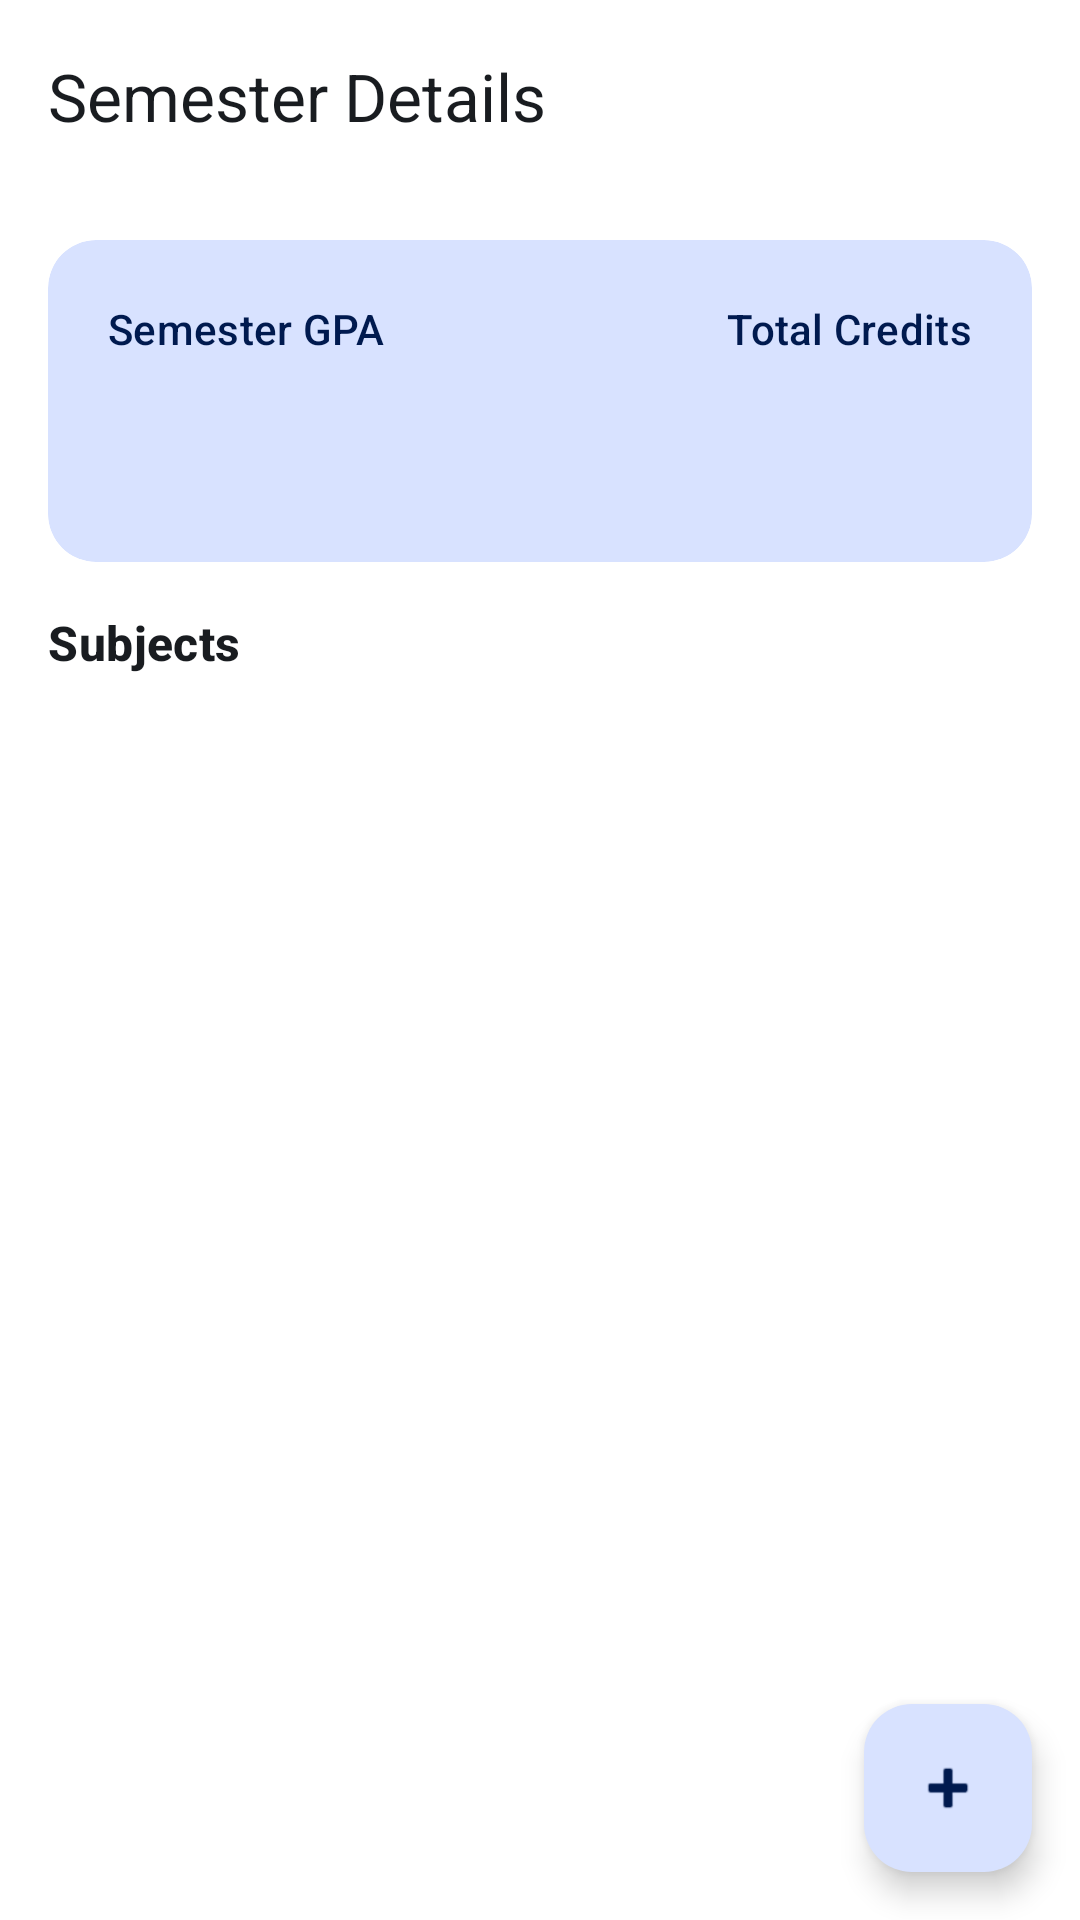

Icon bounding boxes for this 1080px x 1920px phone screenshot, format (x1, y1, x2, y2):
Add Subject: (864, 1704, 1032, 1872)
